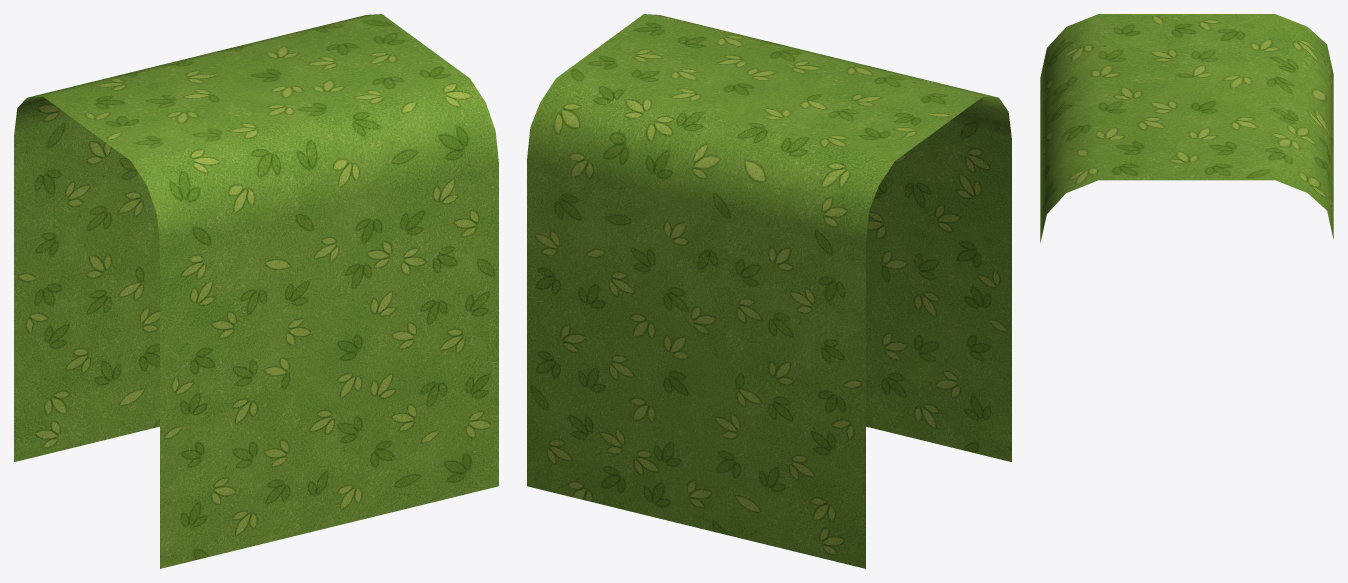
File: bg_fence_tree.FBX
3 views of the same model, side by side, from view 1: azimuth 30°, elevation 25°; view 2: azimuth 150°, elevation 25°; view 3: azimuth 270°, elevation 25° (orthographic).
Visible parts, largest first — view 1: bg_fence_tree; view 2: bg_fence_tree; view 3: bg_fence_tree.
Boxes of the visible parts, left/top/right/bottom form: bg_fence_tree: left=14, top=14, right=498, bottom=568; bg_fence_tree: left=527, top=14, right=1011, bottom=568; bg_fence_tree: left=1040, top=14, right=1333, bottom=242.
Bounding box in the file's own units: 26.96 × 29.39 × 20.09.
